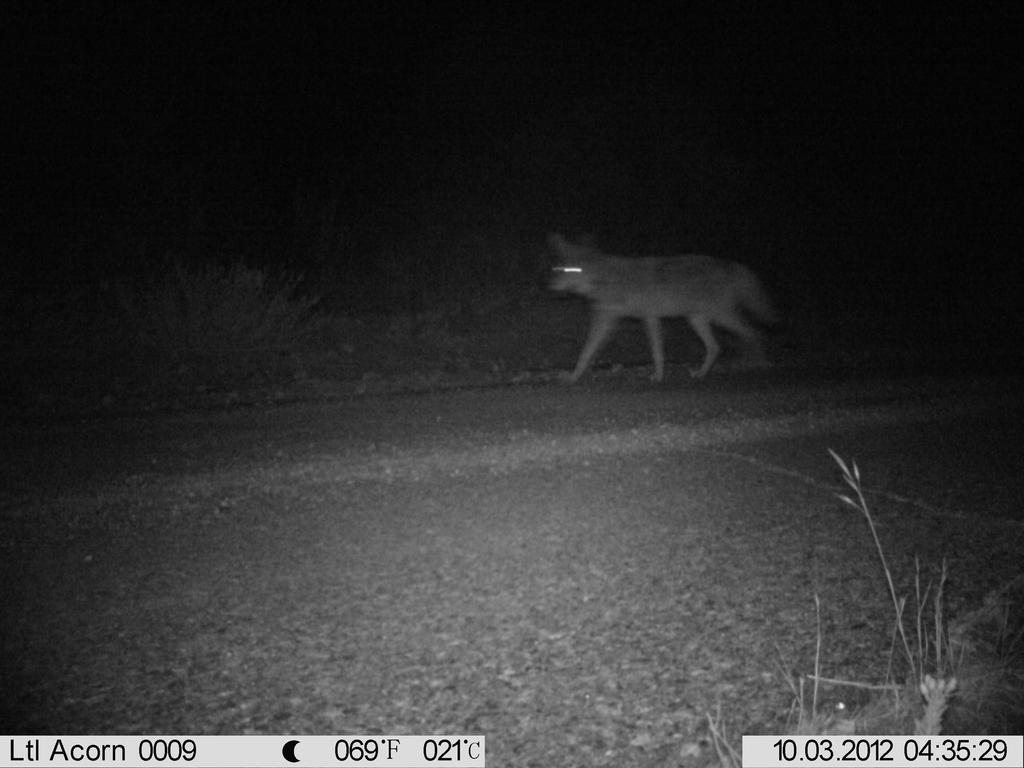coyote: (546, 228, 785, 388)
